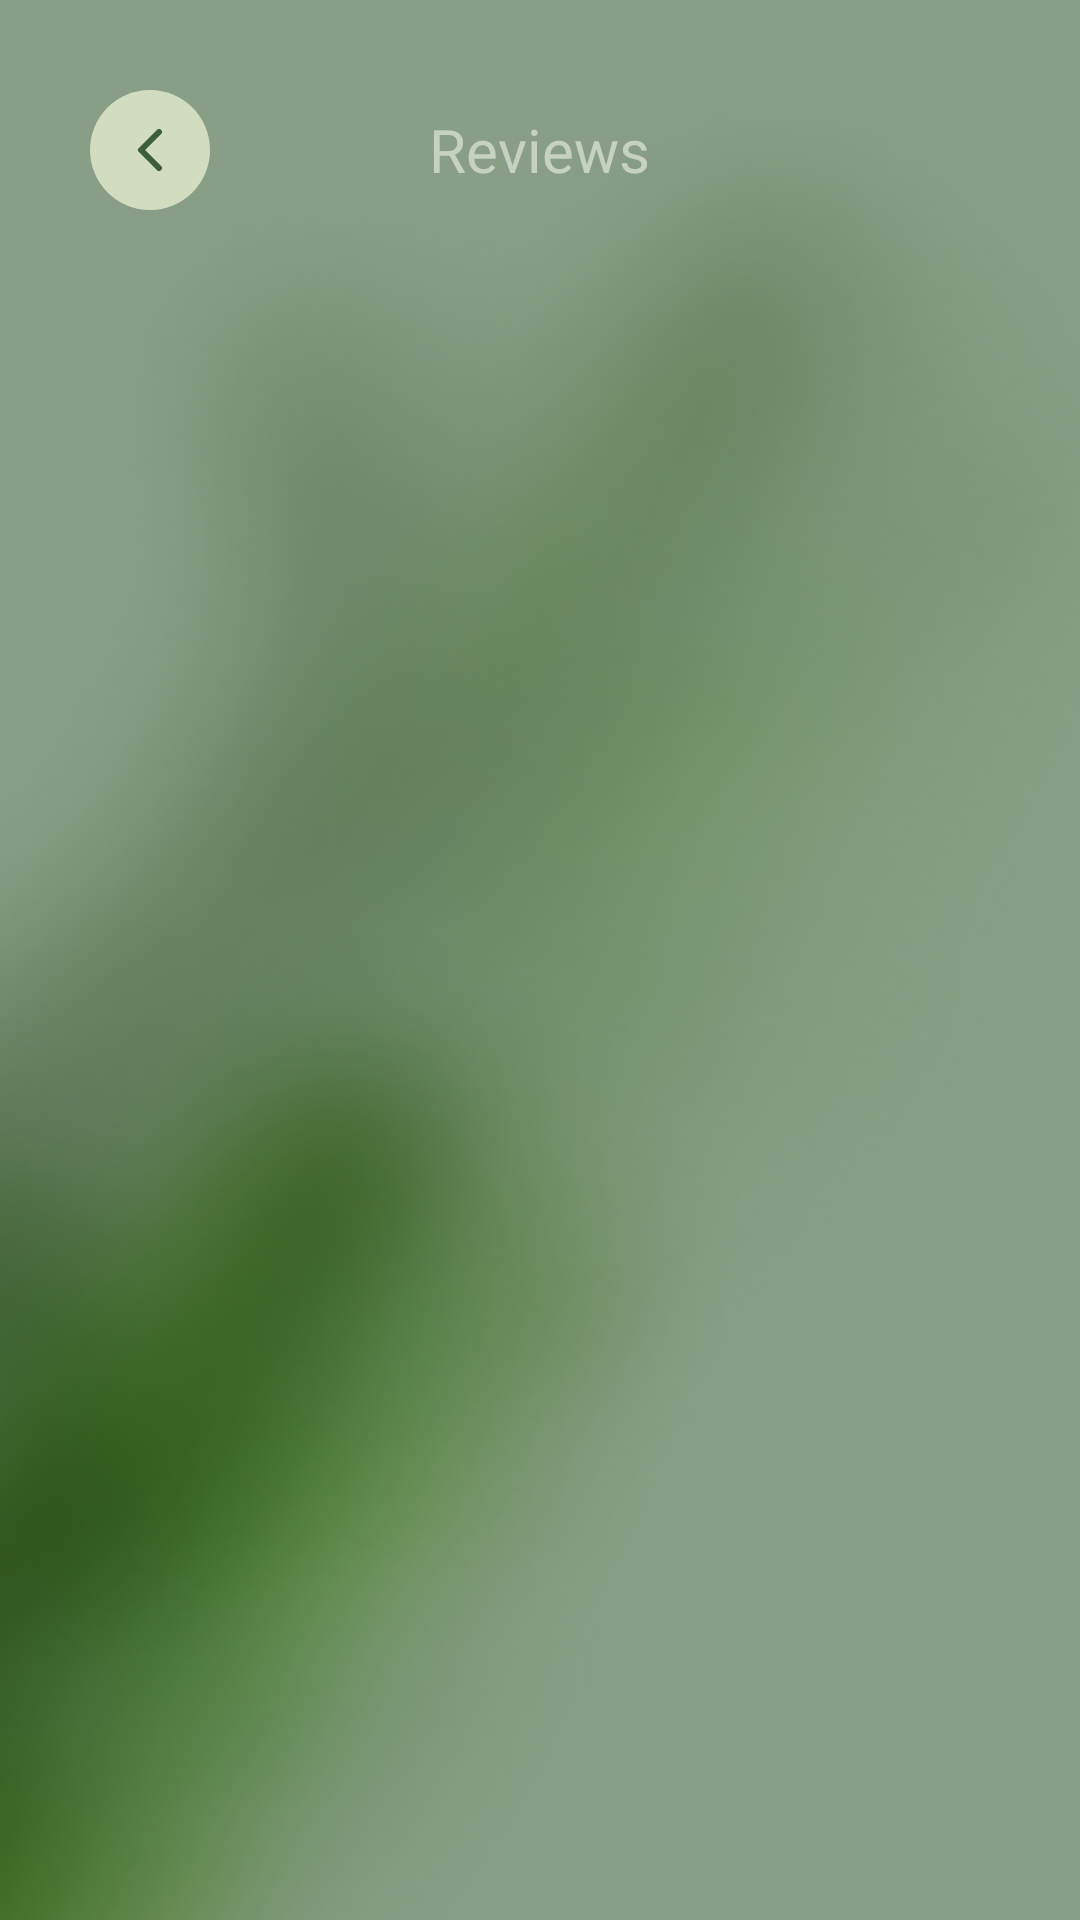

Icon bounding boxes for this 1080*1920 phone screenshot, format (x1, y1, x2, y2):
back arrow: (90, 90, 210, 210)
